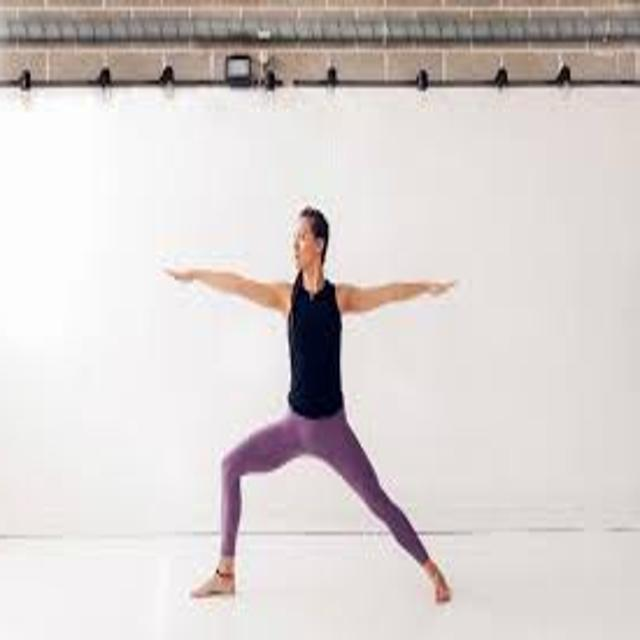Warrior_II: (149, 195, 471, 612)
